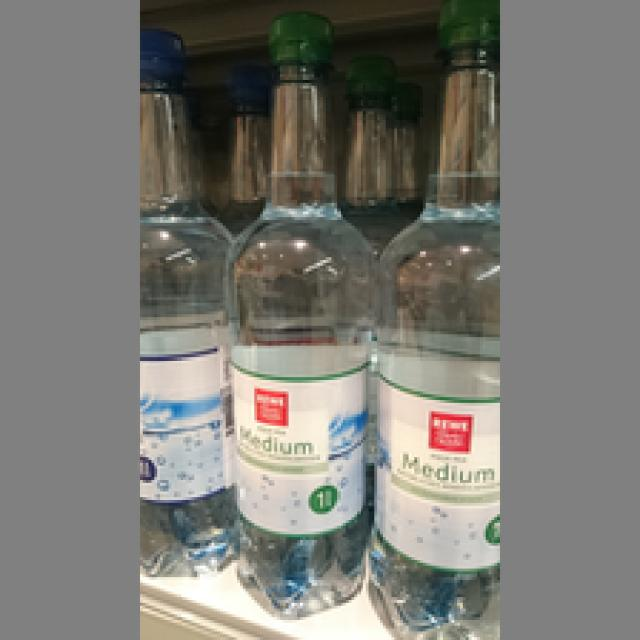groceries: (226, 14, 371, 617), (360, 0, 497, 637), (137, 20, 229, 583)
